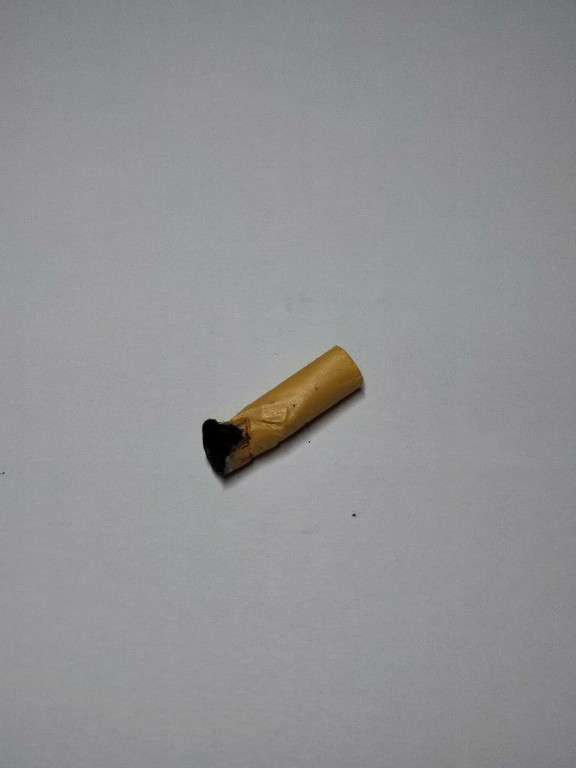cigarette: (194, 340, 369, 486)
